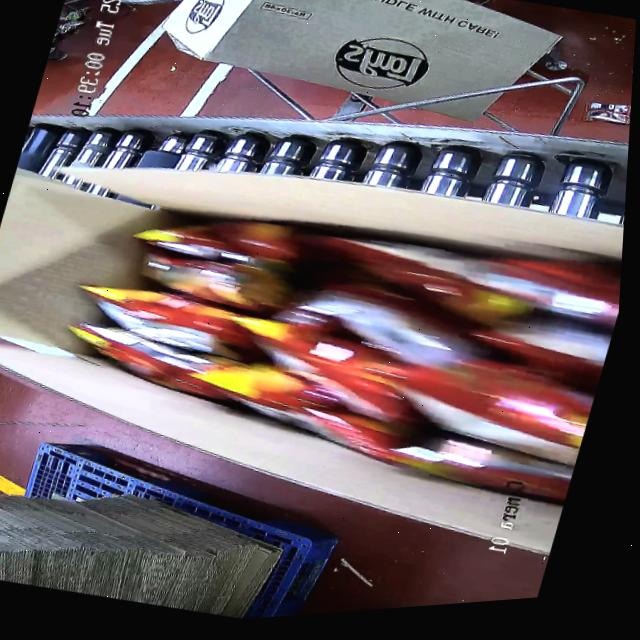MASALA: (29, 148, 628, 542)
